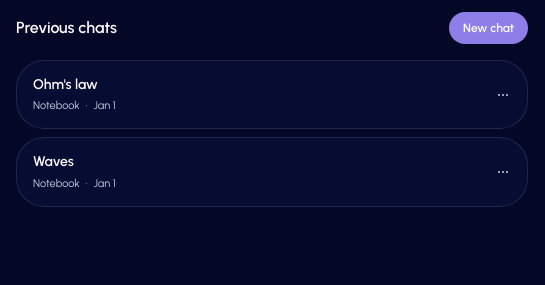
JamiAssistantHistory mode switching › clears a pending delete elsewhere when a rename starts
The image size is (545, 285).
Click the heading named "More options for Waves".
click(503, 172)  # box [495, 164, 511, 180]
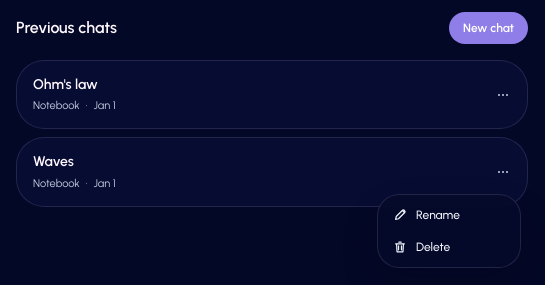
Expected: the button "Delete" is shown
Click the button "Delete".
click(449, 247)  # box [382, 231, 516, 263]
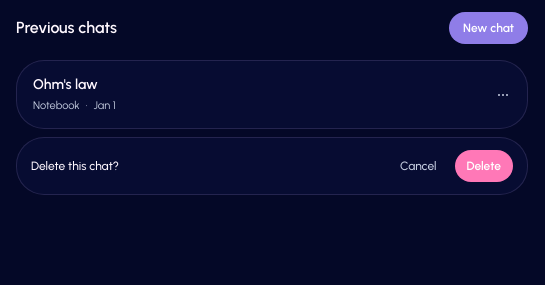
Expected: the text "Delete this chat?" is shown, [31, 158, 119, 174]
Click the heading named "More options for Ohm's law".
click(503, 95)  # box [495, 87, 511, 103]
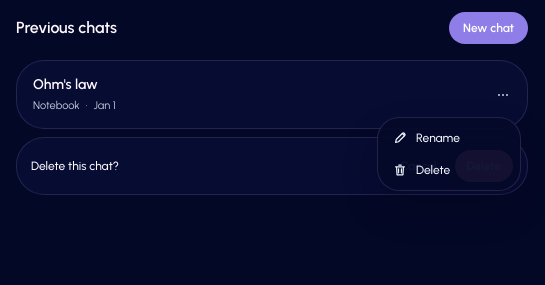
Expected: the button "Rename" is shown
Click the button "Rename".
click(449, 138)  # box [382, 122, 516, 154]
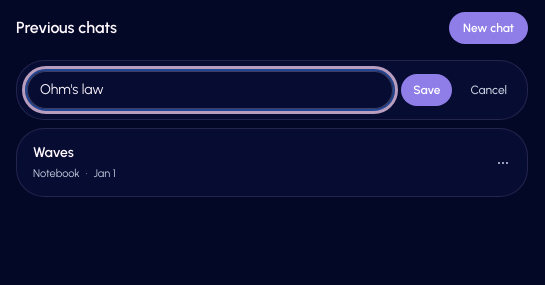
Expected: the text "Delete this chat?" is gone
Expected: the field with id "jami-chat-title-t-1" is shown, [27, 71, 393, 109]
